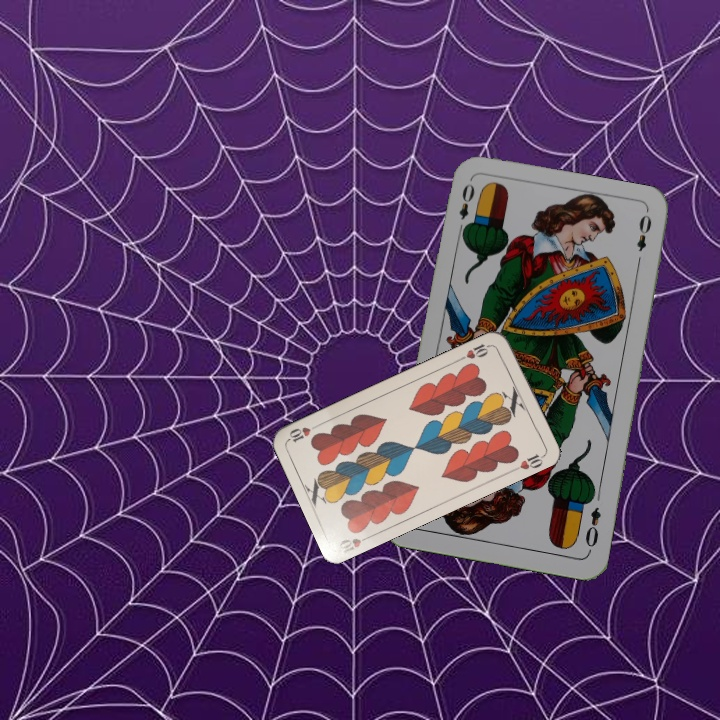EO: (454, 179, 477, 237), (581, 503, 604, 555)
H10: (335, 531, 375, 555), (456, 339, 495, 363)
